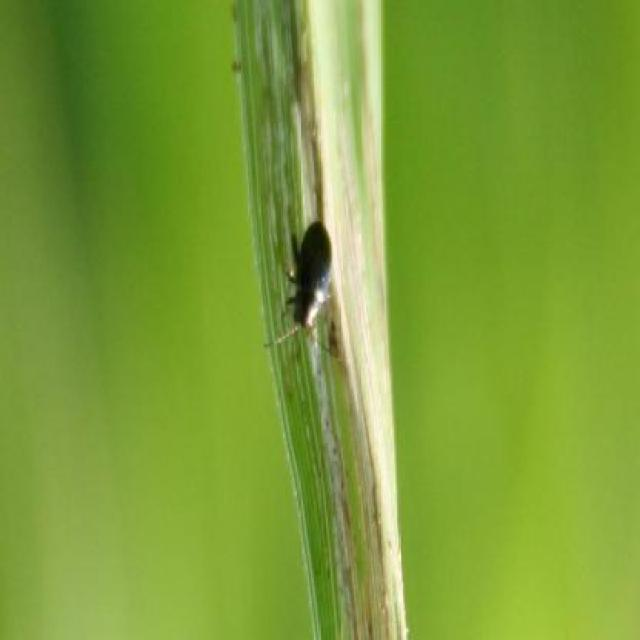rice-bug: (279, 221, 338, 342)
